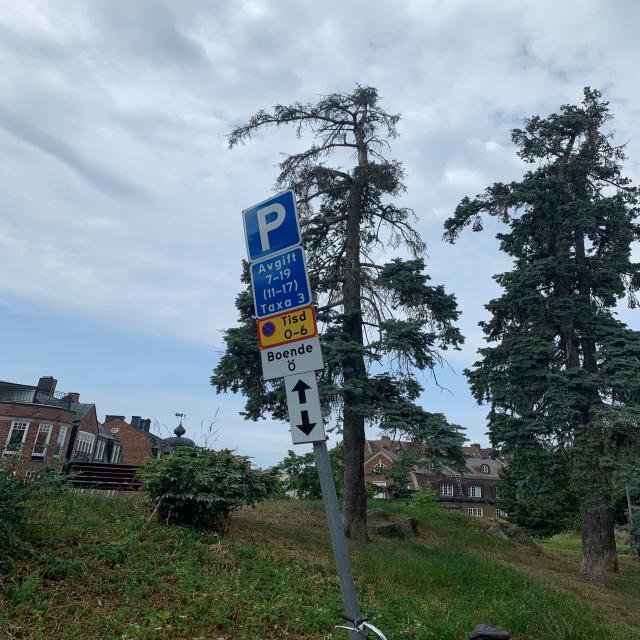psign: (242, 188, 300, 266)
